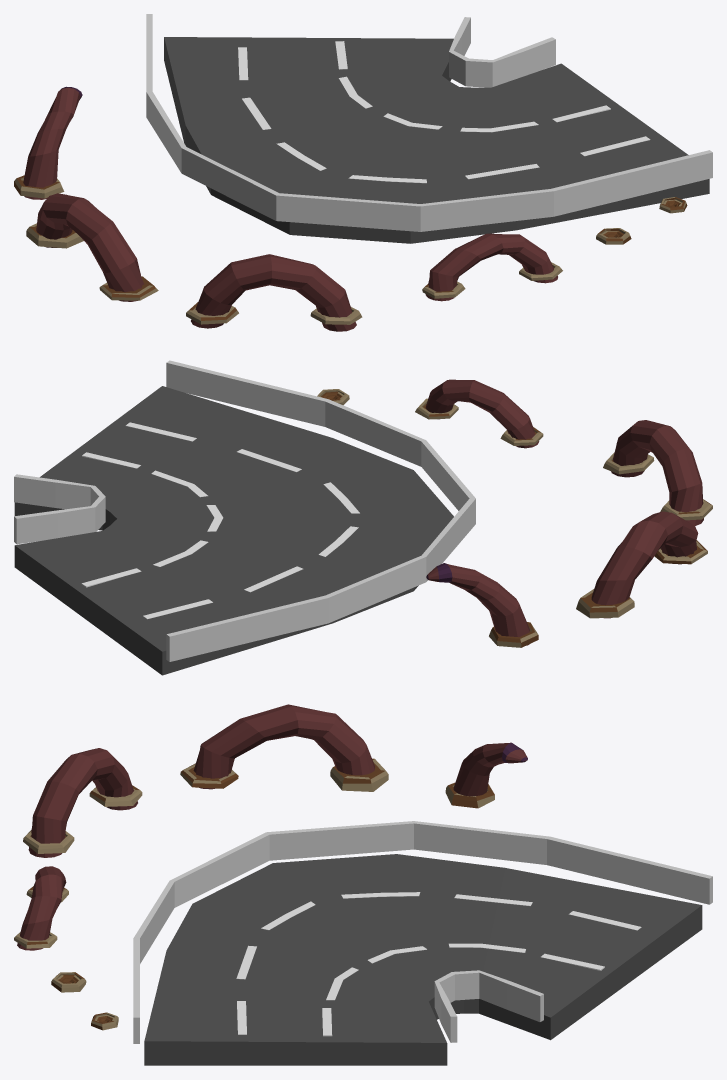
The model's file is highway_01_3.fbx.
3 views of the same model, one above another, from view 1: azimuth 30°, elevation 25°; view 2: azimuth 150°, elevation 25°; view 3: azimuth 270°, elevation 25° (orthographic). The views are drawn at different scales.
Parts seen in each view (by area): view 1: autobahn01.005, leitPlankOutside.005, Torus, Torus.001, leitPlankInside.005, Torus.003, wormHeader, earthHole.006, earthHole.005, earthHole.007, earthHole.003; view 2: autobahn01.005, leitPlankOutside.005, leitPlankInside.005, Torus.001, Torus, Torus.003, wormHeader, earthHole.006, earthHole.007, earthHole.005, earthHole.002; view 3: autobahn01.005, leitPlankOutside.005, Torus.001, Torus, leitPlankInside.005, Torus.003, wormHeader, earthHole.006, earthHole.005, earthHole.007, earthHole.002, earthHole.003 (+1 smaller).
Part boxes in pixels (box(x1,y1,x2,y2)): autobahn01.005: box(164, 37, 709, 243); leitPlankOutside.005: box(146, 14, 712, 231); Torus: box(191, 254, 356, 331); Torus.001: box(36, 193, 143, 301); leitPlankInside.005: box(449, 17, 555, 87); Torus.003: box(425, 233, 557, 301); wormHeader: box(23, 86, 82, 199); earthHole.006: box(26, 223, 83, 248); earthHole.005: box(99, 276, 158, 300); earthHole.007: box(14, 175, 64, 198); earthHole.003: box(186, 302, 238, 324); autobahn01.005: box(14, 386, 453, 675); leitPlankOutside.005: box(166, 360, 475, 661); leitPlankInside.005: box(14, 474, 105, 544); Torus.001: box(591, 511, 698, 618); Torus: box(611, 420, 703, 525); Torus.003: box(425, 379, 539, 448); wormHeader: box(426, 563, 529, 645); earthHole.006: box(576, 589, 634, 618); earthHole.007: box(489, 622, 538, 647); earthHole.005: box(654, 540, 707, 564); earthHole.002: box(603, 452, 654, 474); autobahn01.005: box(144, 854, 702, 1065); leitPlankOutside.005: box(133, 821, 712, 1043); Torus.001: box(193, 704, 374, 789); Torus: box(28, 748, 137, 857); leitPlankInside.005: box(434, 970, 543, 1042); Torus.003: box(17, 866, 66, 950); wormHeader: box(453, 742, 527, 796); earthHole.006: box(330, 758, 388, 791); earthHole.005: box(180, 763, 238, 788); earthHole.007: box(445, 782, 494, 808); earthHole.002: box(23, 830, 74, 853); earthHole.003: box(89, 785, 142, 806).
Bounding box in the file's own units: 87.16 × 12.81 × 89.35.
